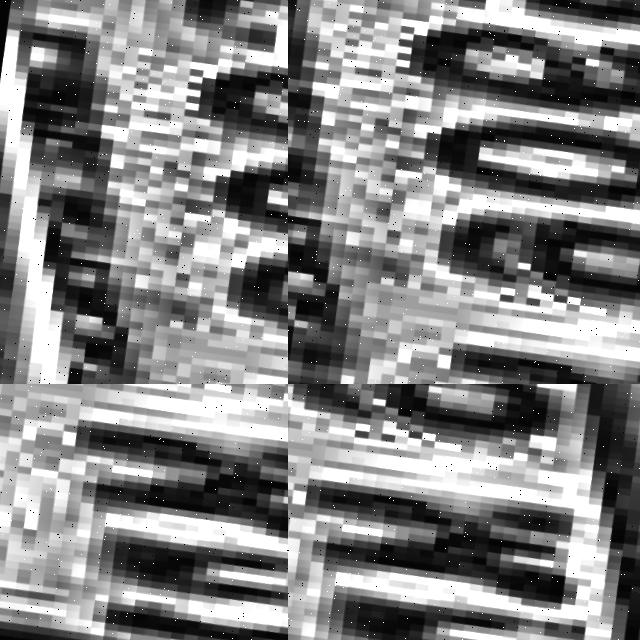license-plate: (288, 0, 640, 384), (0, 0, 288, 384), (288, 384, 640, 640), (0, 384, 250, 578)
